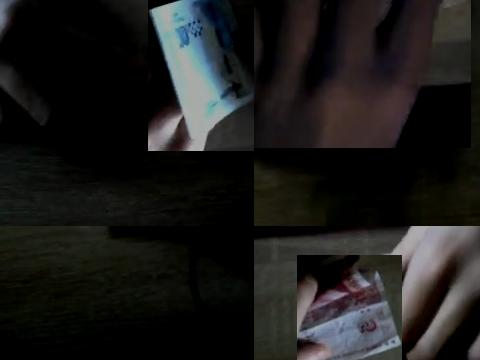10leva: (254, 0, 464, 148)
20leva: (148, 0, 254, 151)
5leva: (297, 255, 402, 360)
